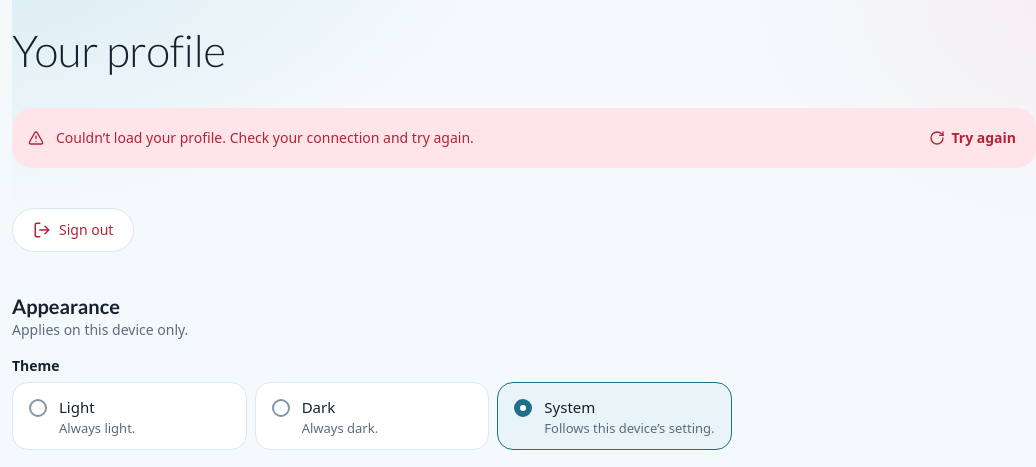
Test case: profile identity › offers Try again when the profile fails to load, and keeps Sign out
This screenshot has width=1036, height=467.
Expected: the button "Sign out" is shown, [12,208,134,252]
Click the button "Try again": (973, 138) [917,116,1028,160]
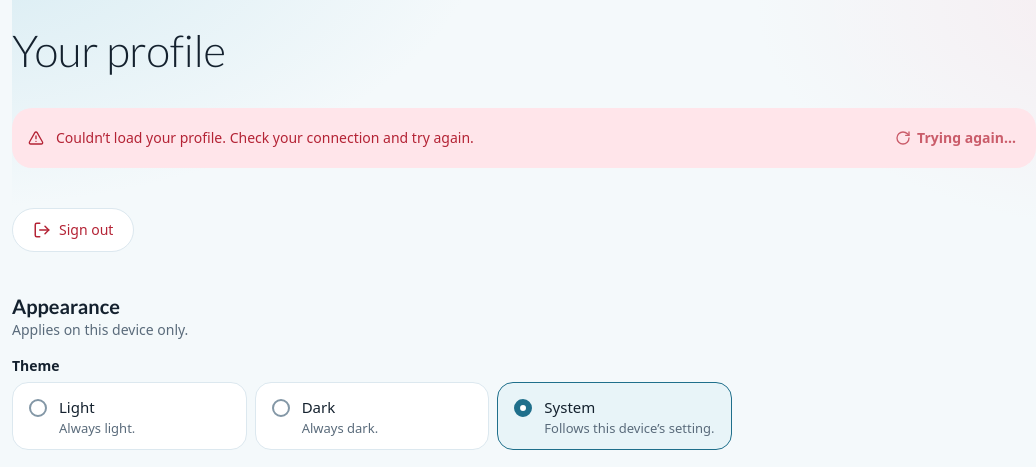
Expected: the button "Trying again…" is shown, [883,116,1028,160]
